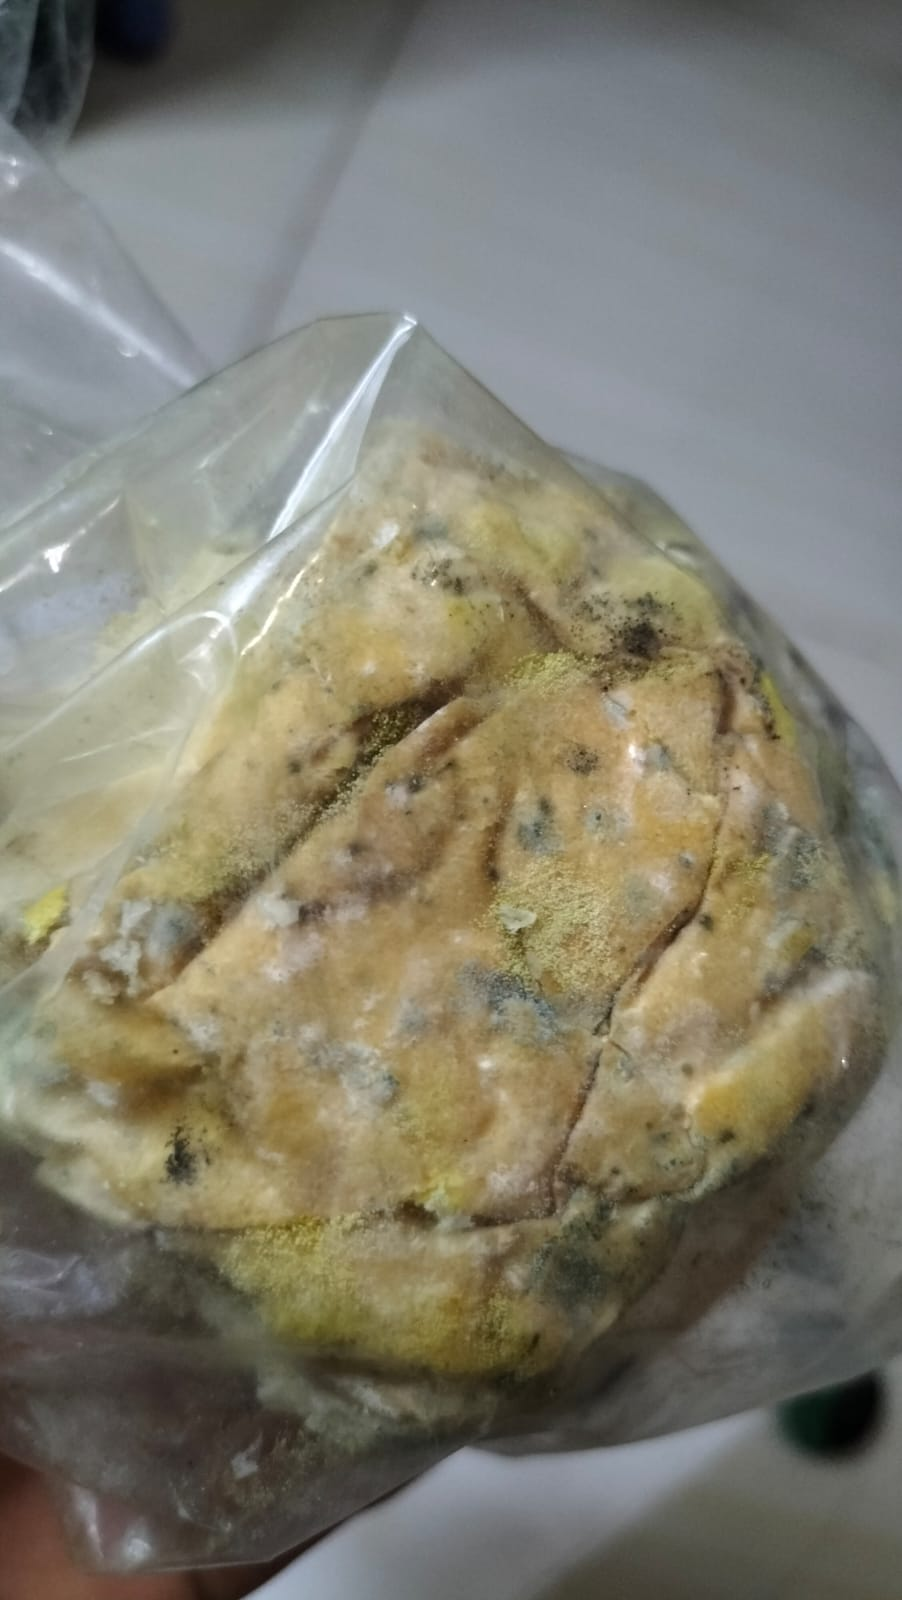mold_bread: (508, 1173, 639, 1331), (578, 567, 689, 705), (75, 874, 194, 1001), (461, 936, 590, 1045), (743, 778, 822, 905), (147, 1105, 220, 1210), (252, 873, 337, 938), (506, 784, 560, 862), (332, 825, 385, 863)
